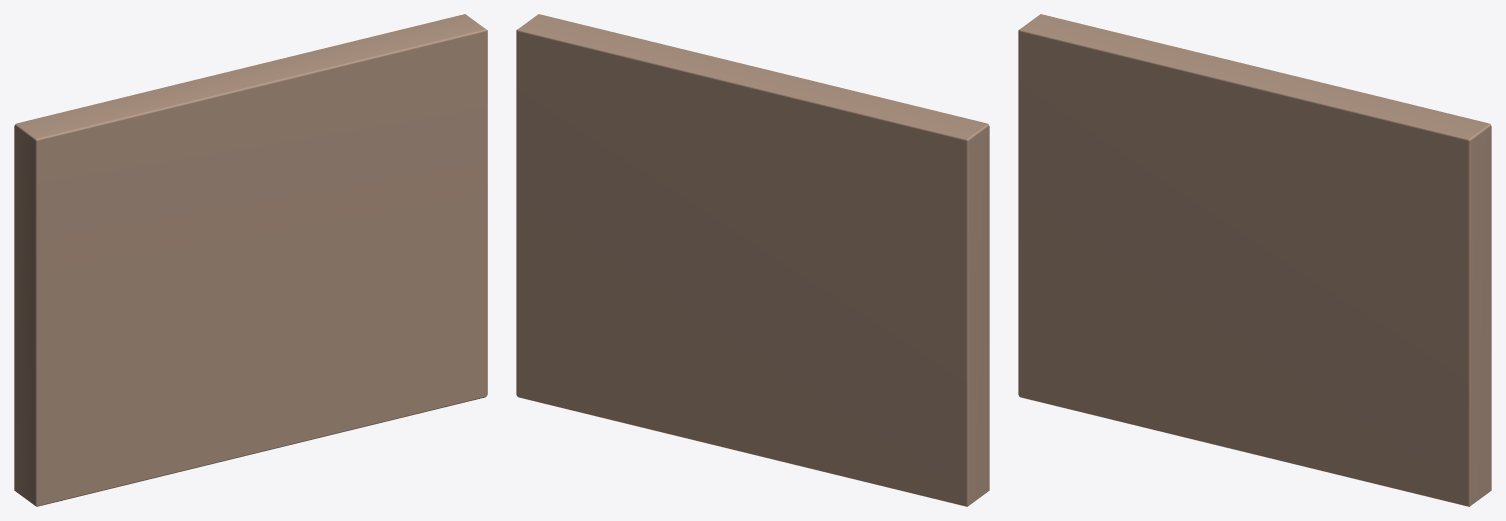
File: Wall_5.glb
3 views of the same model, side by side, from view 1: azimuth 30°, elevation 25°; view 2: azimuth 150°, elevation 25°; view 3: azimuth 330°, elevation 25° (orthographic).
Parts seen in each view (by area): view 1: Wall_5; view 2: Wall_5; view 3: Wall_5.
Part boxes in pixels (x1,y1,x2,y2): Wall_5: [14, 14, 487, 506]; Wall_5: [516, 14, 989, 506]; Wall_5: [1018, 14, 1491, 506].
Size of the model in its own units: 4.63 by 3.6 by 0.4.
1 material, 1 textured.
